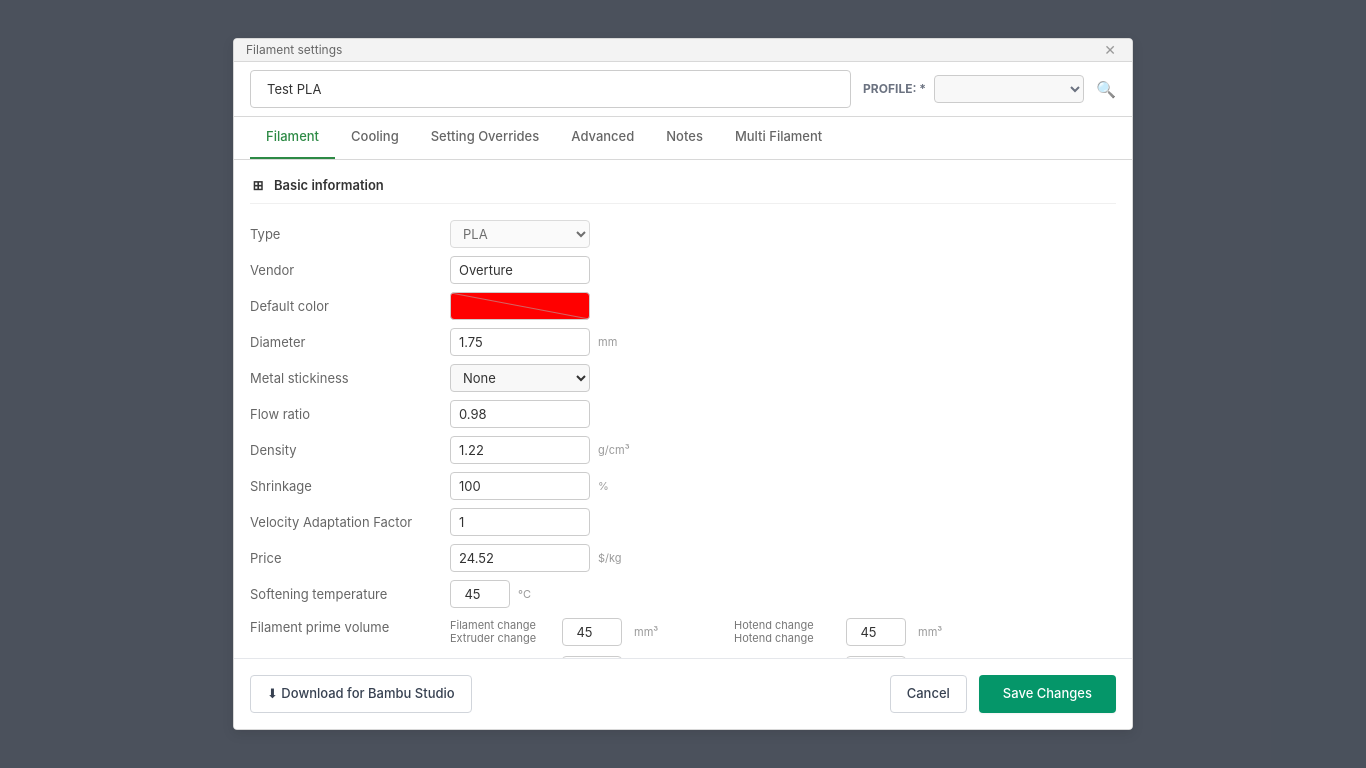
Scenario: EditorModal — filament type › Setting Overrides tab shows retraction, speed, and pressure advance fields
This screenshot has width=1366, height=768.
Click the text with class "tab" showing "Setting Overrides" at {"x": 485, "y": 136}, box x1=431 y1=128 x2=539 y2=144
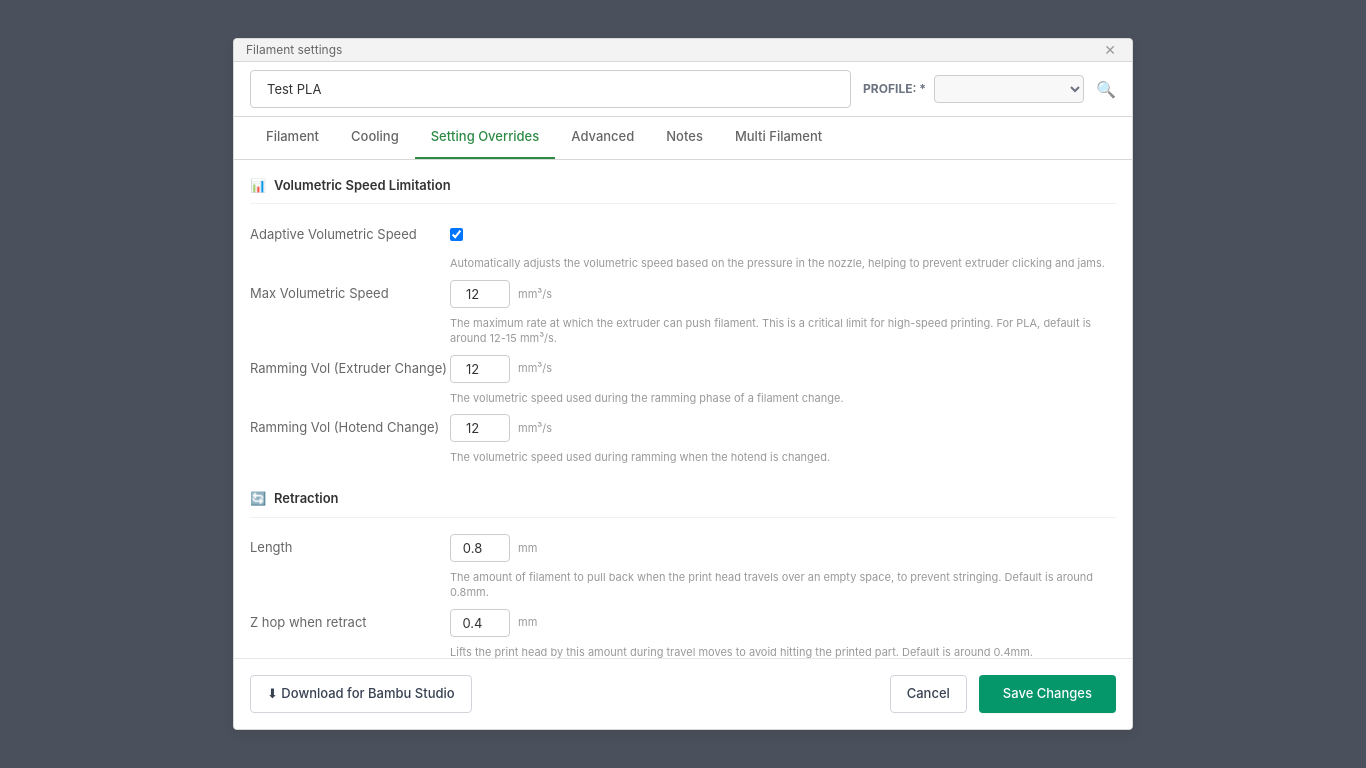
Check: the text "Retraction" is shown, box x1=274 y1=490 x2=338 y2=506
